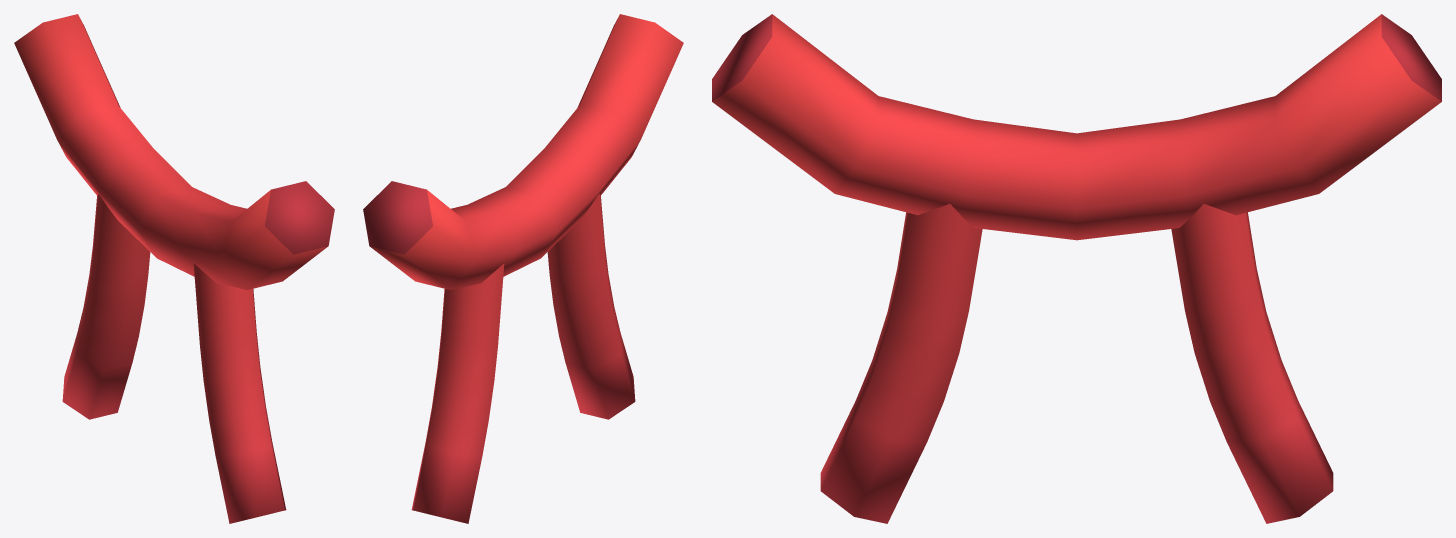
Rendered from japan_small_gate.fbx.
3 views of the same model, side by side, from view 1: azimuth 30°, elevation 25°; view 2: azimuth 150°, elevation 25°; view 3: azimuth 270°, elevation 25° (orthographic). The views are drawn at different scales.
Parts seen in each view (by area): view 1: Cube.115; view 2: Cube.115; view 3: Cube.115.
Boxes of the visible parts, <box> form: Cube.115: <box>14,14,334,523</box>; Cube.115: <box>363,14,683,523</box>; Cube.115: <box>712,14,1441,523</box>.
Size of the model in its own units: 77.53 by 387 by 523.
